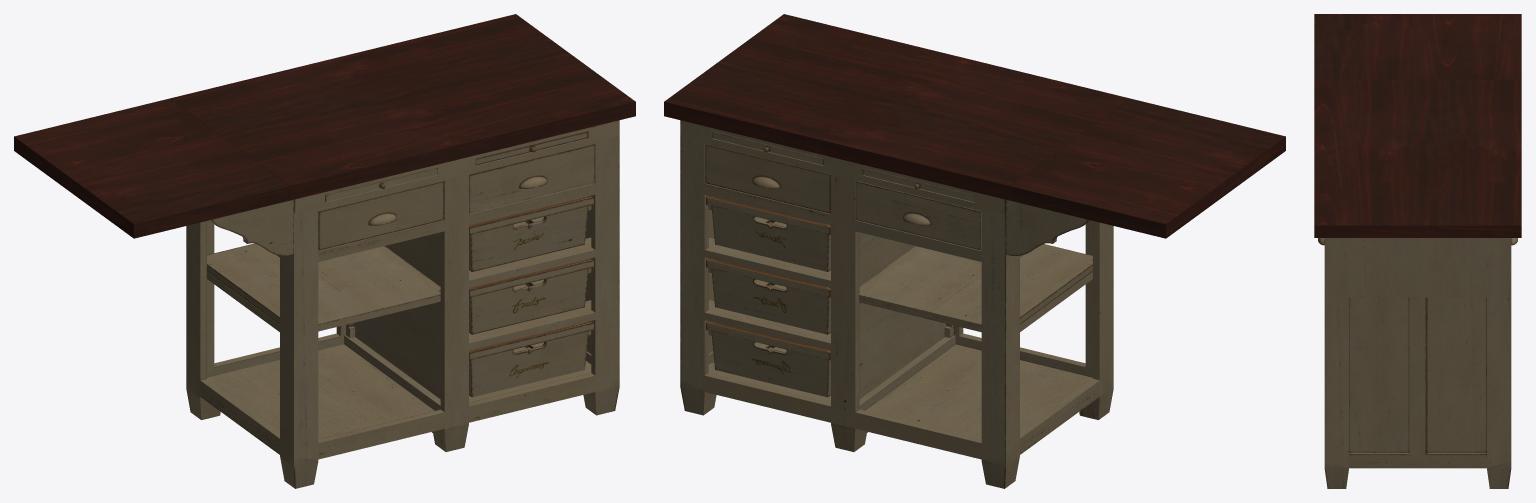
File: example103.gltf
3 renders of one model, left to right at view 1: azimuth 30°, elevation 25°; view 2: azimuth 150°, elevation 25°; view 3: azimuth 270°, elevation 25°, orthographic. The views are drawn at different scales.
Size of the model in its own units: 145 by 86 by 60.
Materials: 4 (3 with a texture image).
